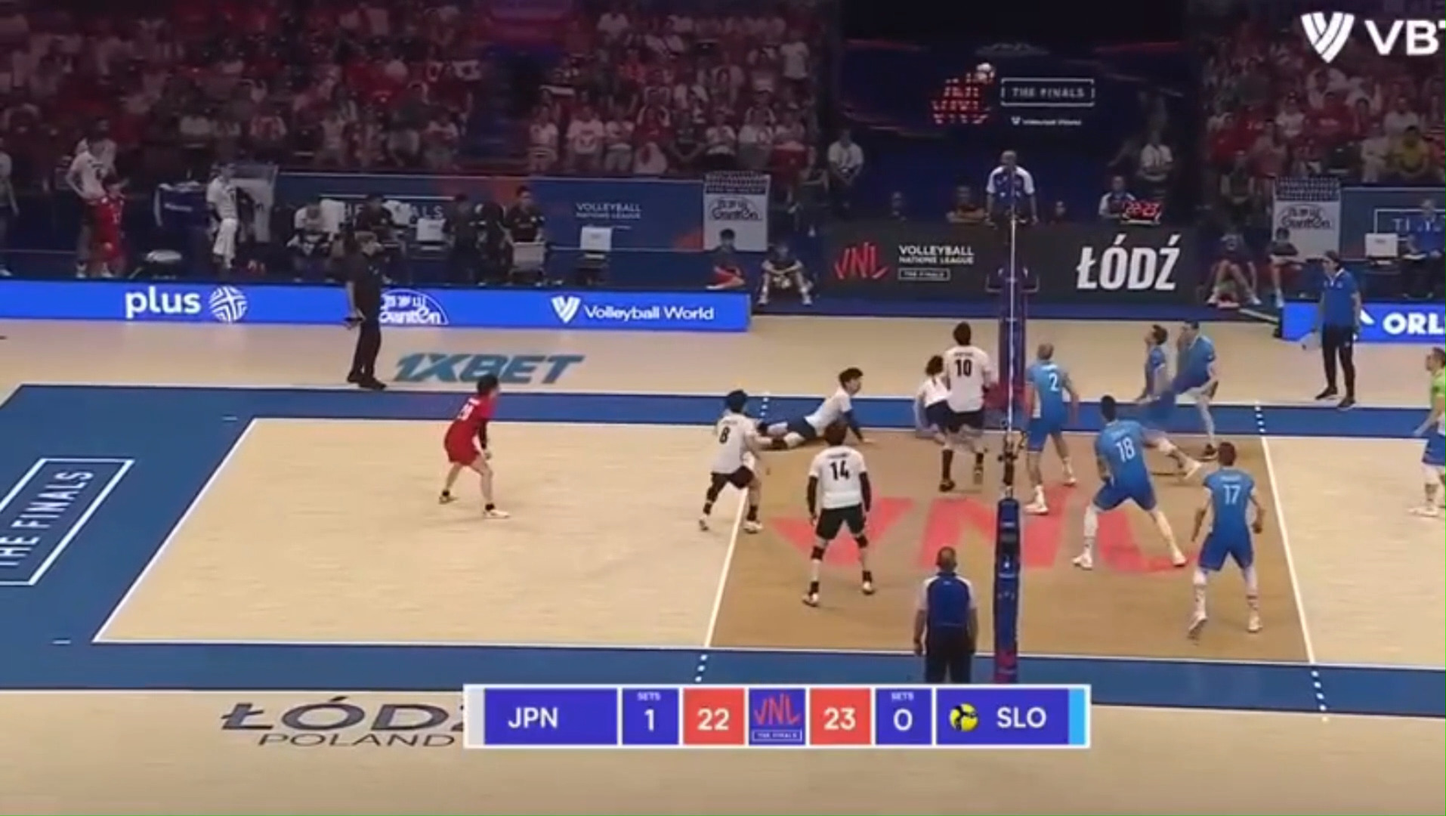ball: (976, 62, 996, 79)
player: (1072, 394, 1187, 570), (1189, 442, 1266, 638), (1023, 343, 1078, 515), (1138, 324, 1199, 478), (1173, 322, 1218, 457), (1413, 348, 1445, 517)
player 1: (802, 422, 875, 607), (439, 374, 507, 518), (941, 322, 996, 490), (698, 389, 761, 533), (759, 367, 865, 449), (915, 355, 950, 441)
referee: (913, 546, 977, 683), (1314, 252, 1361, 409), (986, 150, 1037, 292), (342, 230, 386, 390)
